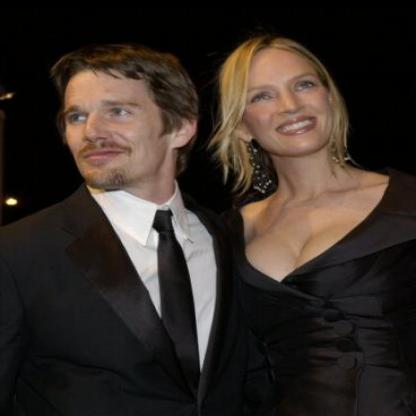face: (57, 47, 177, 195), (233, 36, 338, 159)
